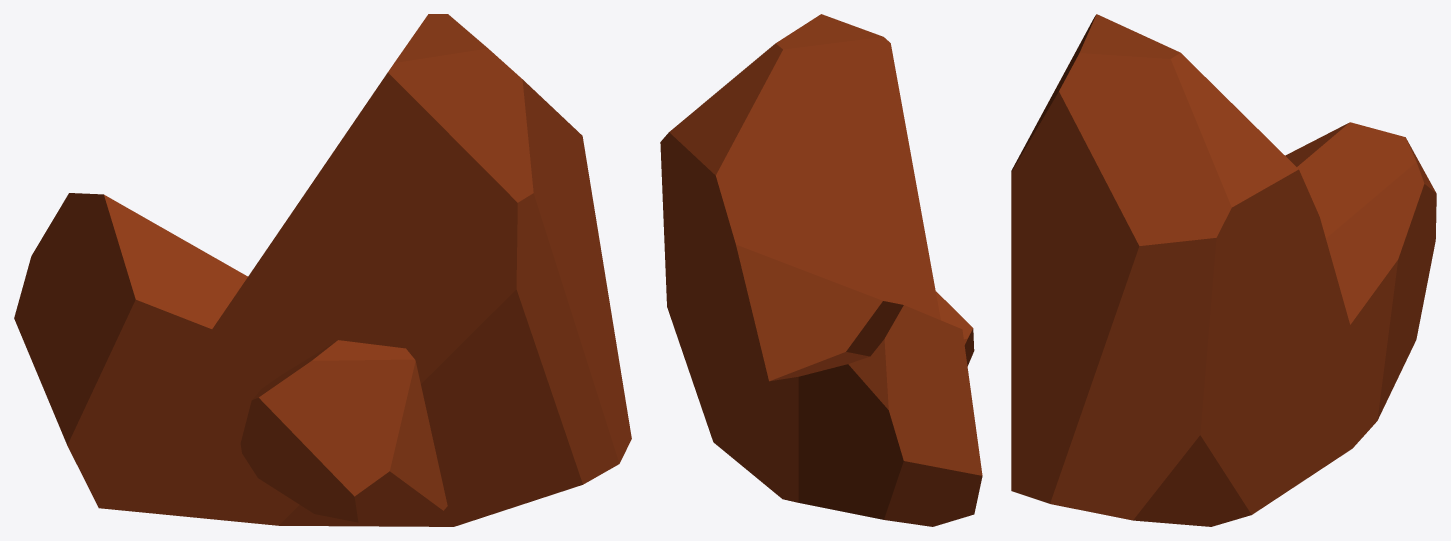
The model's file is pcaillou.fbx.
3 renders of one model, left to right at view 1: azimuth 30°, elevation 25°; view 2: azimuth 150°, elevation 25°; view 3: azimuth 270°, elevation 25°, orthographic. The views are drawn at different scales.
Visible parts, largest first — view 1: PlanetRockA.001; view 2: PlanetRockA.001; view 3: PlanetRockA.001.
Boxes of the visible parts, left/top/right/bottom form: PlanetRockA.001: left=14, top=14, right=631, bottom=526; PlanetRockA.001: left=660, top=14, right=982, bottom=526; PlanetRockA.001: left=1011, top=14, right=1436, bottom=526.
Bounding box in the file's own units: 431 × 443 × 382.
